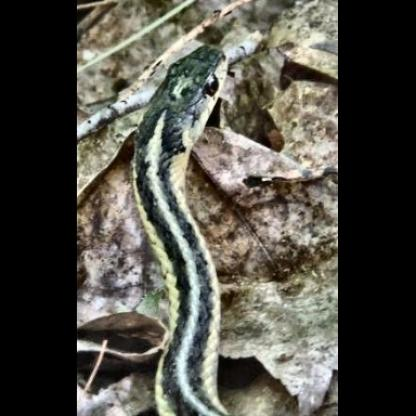Snake: (129, 41, 239, 414)
